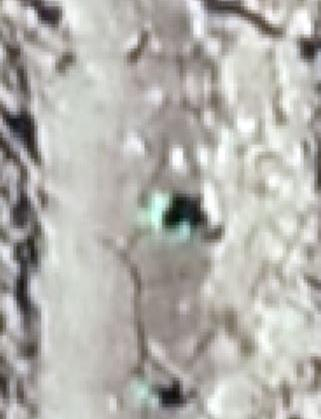cotton: (151, 191, 171, 207), (175, 222, 192, 240), (138, 381, 153, 400), (149, 209, 164, 225)
